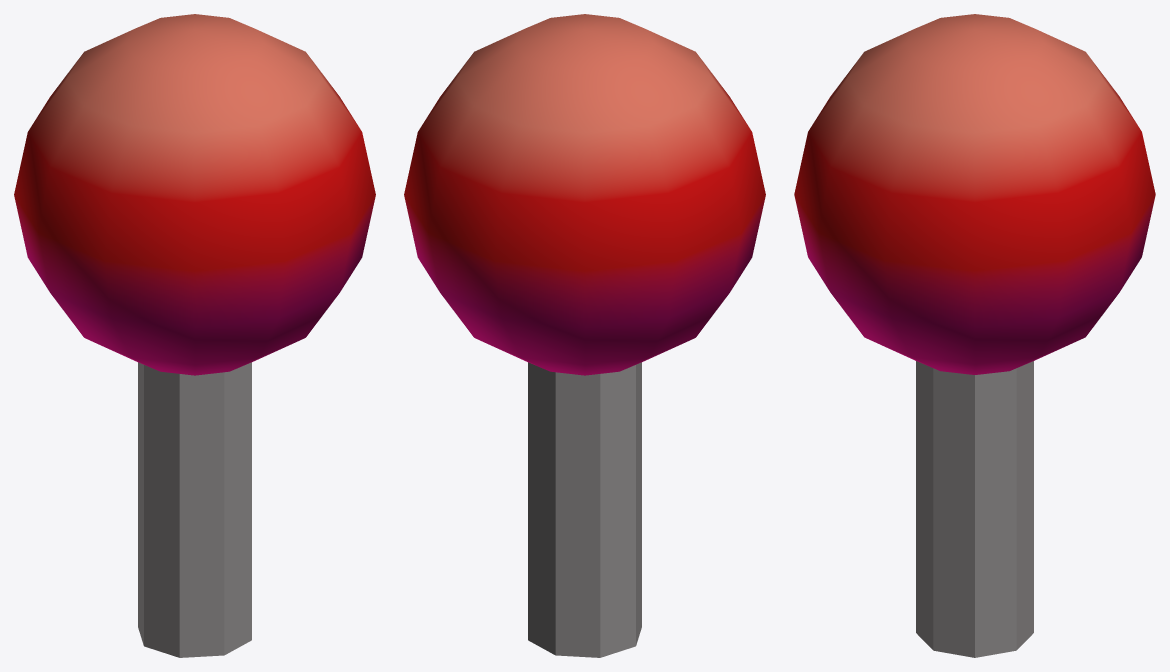
Rendered from lever.glb.
3 views of the same model, side by side, from view 1: azimuth 30°, elevation 25°; view 2: azimuth 150°, elevation 25°; view 3: azimuth 270°, elevation 25° (orthographic).
Visible parts, largest first — view 1: lever; view 2: lever; view 3: lever.
Part boxes in pixels (left/top/right/bottom): lever: left=14, top=14, right=375, bottom=657; lever: left=404, top=14, right=765, bottom=657; lever: left=794, top=14, right=1155, bottom=657.
Bounding box in the file's own units: 1.28 × 2.36 × 1.28.
